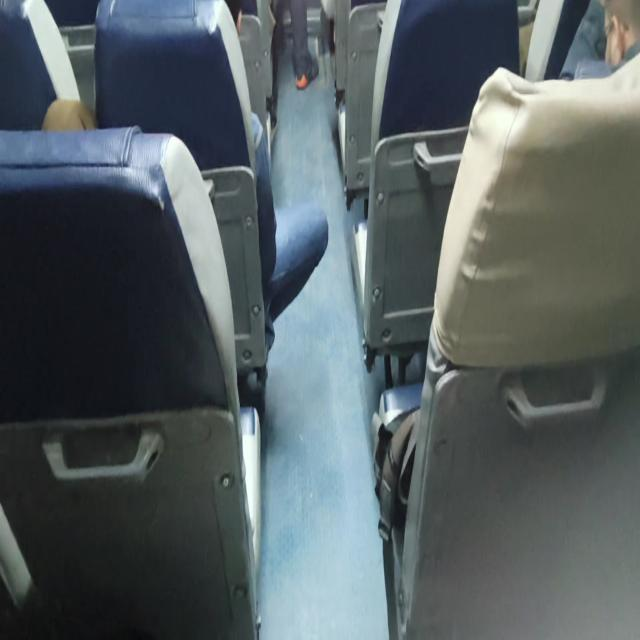person: (589, 0, 640, 94)
